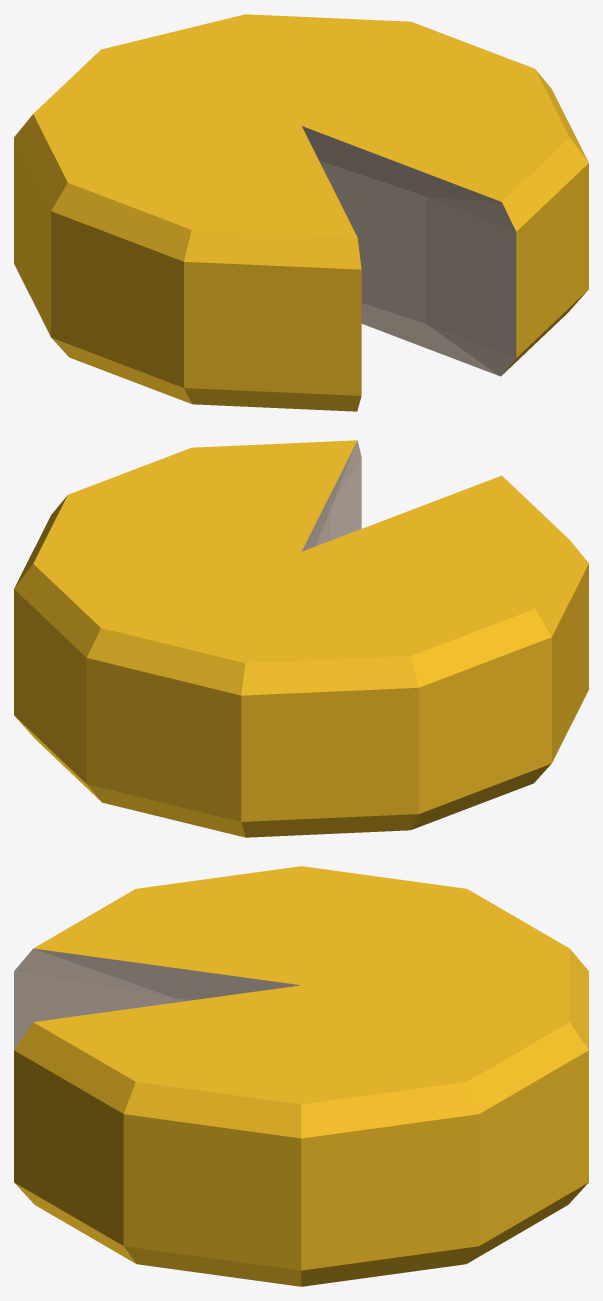
File: food-cheese-circle.glb
The picture shows the model from 3 angles, top to bottom: view 1: azimuth 30°, elevation 25°; view 2: azimuth 150°, elevation 25°; view 3: azimuth 270°, elevation 25°; orthographic projection. The views are drawn at different scales.
Parts seen in each view (by area): view 1: cheese-circle; view 2: cheese-circle; view 3: cheese-circle.
Boxes of the visible parts, x1,y1,x2,y2 form: cheese-circle: [14, 14, 588, 411]; cheese-circle: [14, 440, 588, 837]; cheese-circle: [14, 866, 588, 1286].
Bounding box in the file's own units: 0.4 × 0.1336 × 0.3804.
